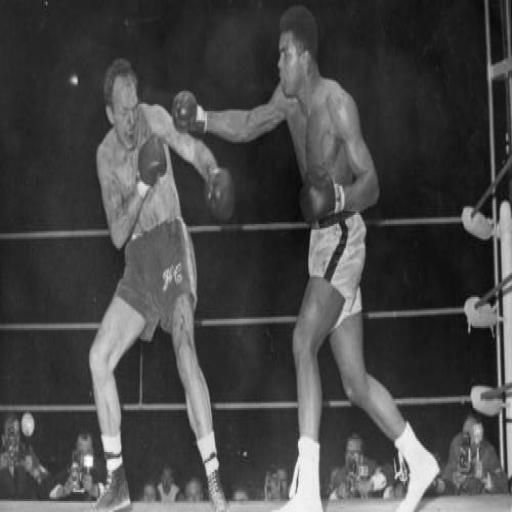boxing: (171, 4, 441, 508), (87, 56, 235, 508)
